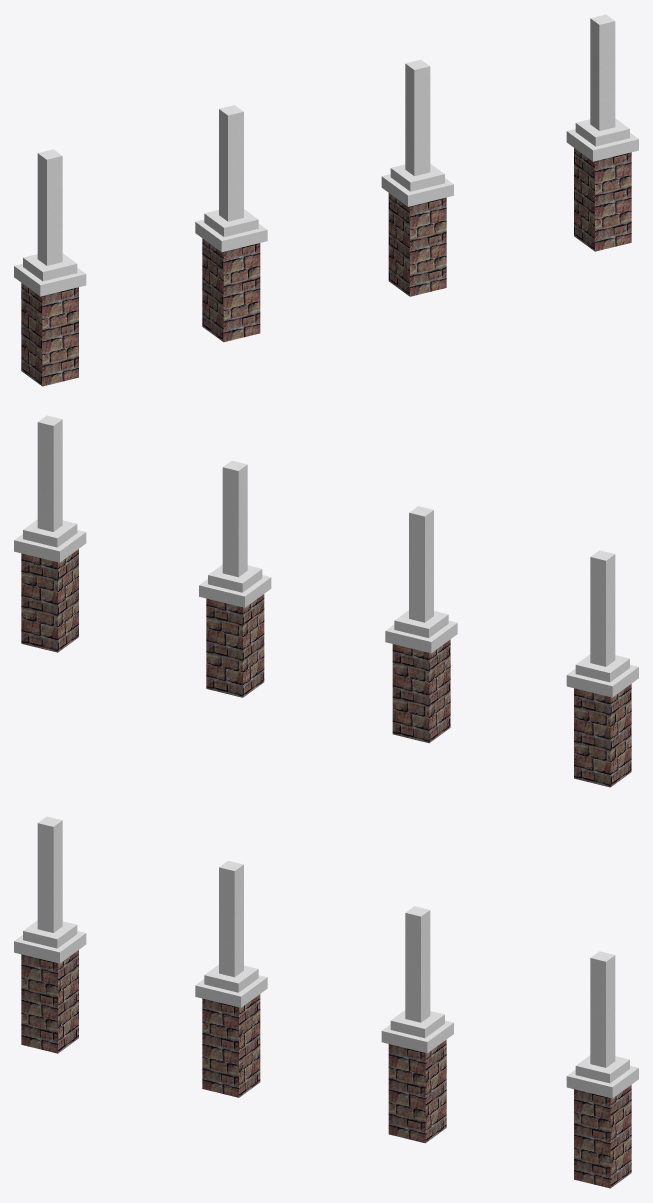
Rendered from house_1_pillars.obj.
The picture shows the model from 3 angles, top to bottom: view 1: azimuth 30°, elevation 25°; view 2: azimuth 150°, elevation 25°; view 3: azimuth 330°, elevation 25°; orthographic projection.
Visible parts, largest first — view 1: Cube.006; view 2: Cube.006; view 3: Cube.006.
Part boxes in pixels (left/top/right/bottom): Cube.006: left=14, top=14, right=638, bottom=386; Cube.006: left=14, top=415, right=638, bottom=787; Cube.006: left=14, top=816, right=638, bottom=1188.
Size of the model in its own units: 4.16 by 1.46 by 0.3187.
Materials: 1 (1 with a texture image).
